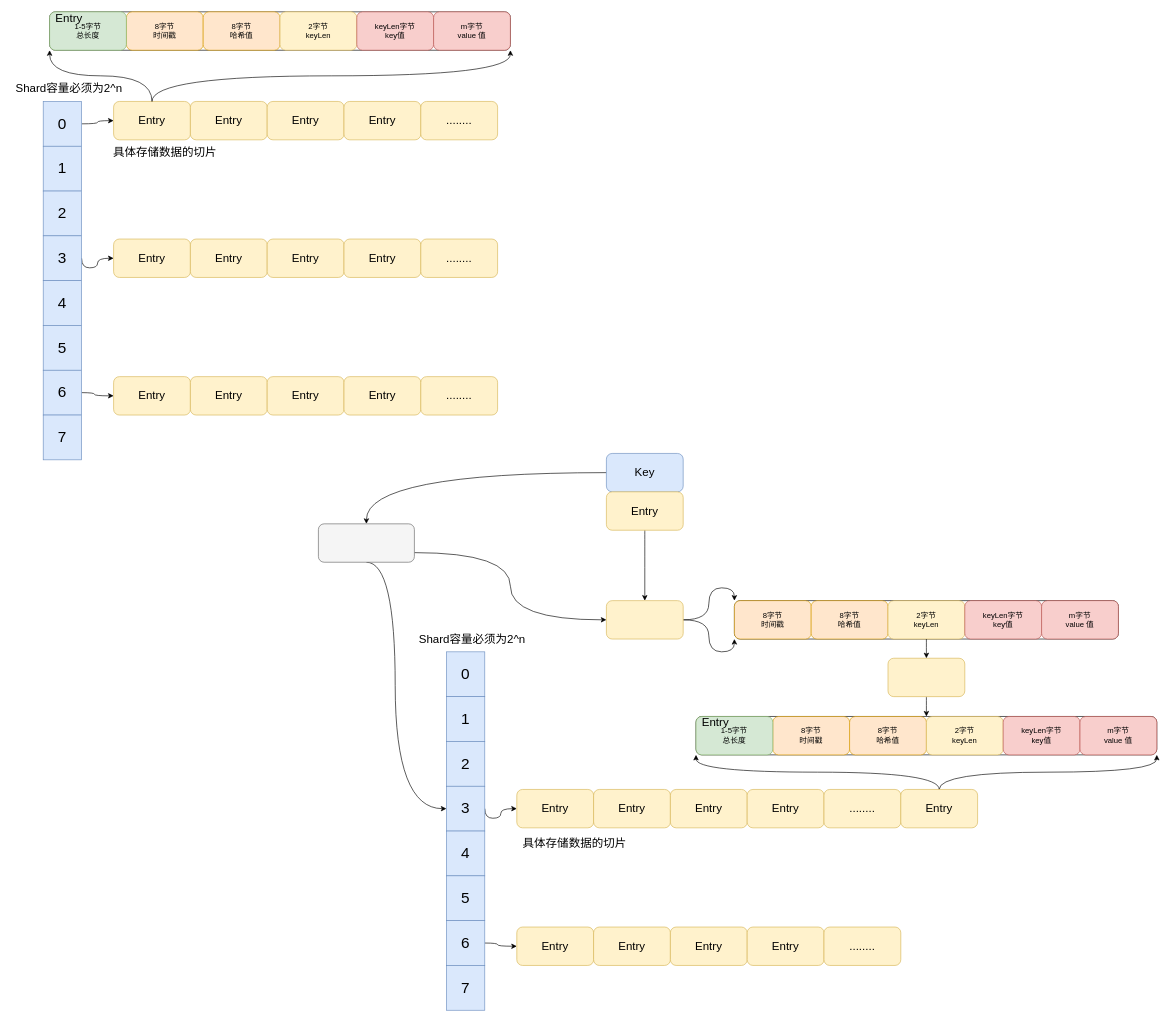
Image size: 1170x1021. Some labels were removed from this diagram. The shapes that lost their labels are listed below. From the top down, each one's centre as x and y in pixels, then its label:
At (366,542): "haseKey=hash.Sum64(key)".
At (644,619): "w=wrapEntry(....)".
At (926,677): "Push(w)".
